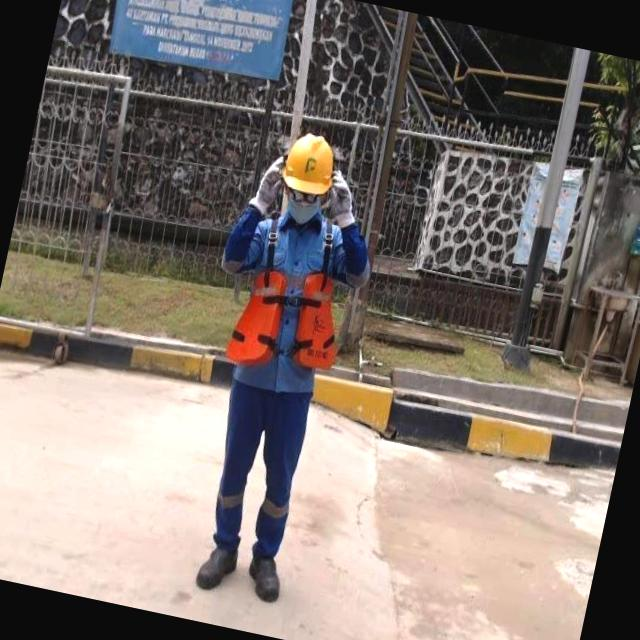vest: (224, 264, 353, 381)
